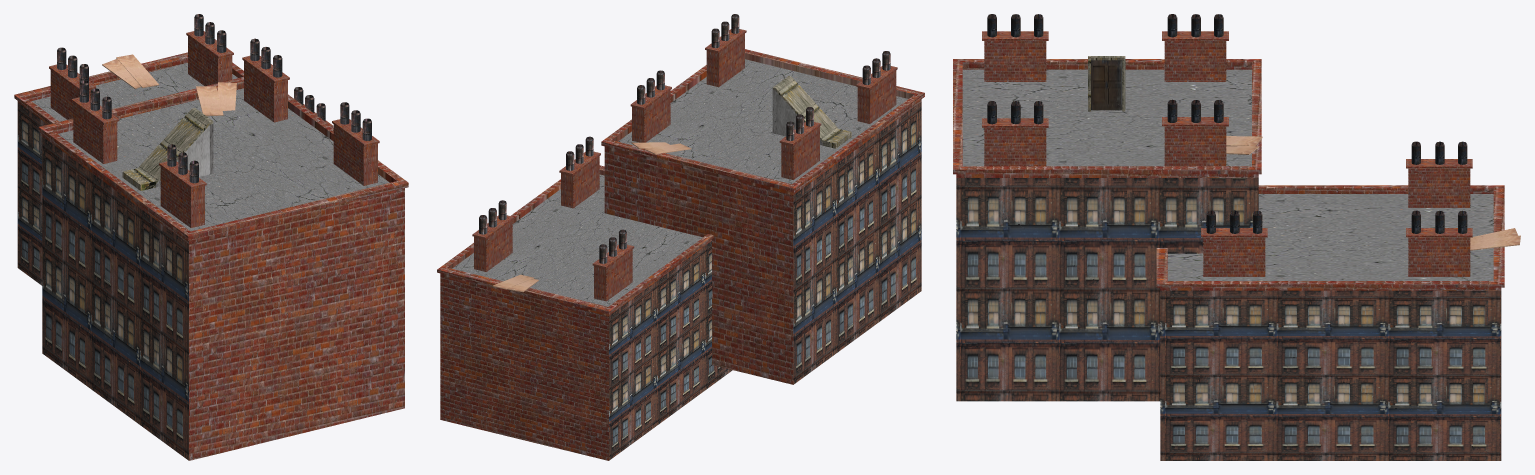
The model's file is Box3WithTextures01.obj.
3 views of the same model, side by side, from view 1: azimuth 30°, elevation 25°; view 2: azimuth 150°, elevation 25°; view 3: azimuth 270°, elevation 25° (orthographic). The views are drawn at different scales.
Parts seen in each view (by area): view 1: Main.003_BrickWallMat.007, Main.003_BrickWallWindowsMat.001, Main.003_HardFloorMat.001, Main.001_BrickWallWindowsMat.002, Main.001_HardFloorMat.002, RoofExit.001_RoofCoverMat.001, Pipe.008_BrickWallMat.007, Pipe.009_BrickWallMat.006, Pipe.010_BrickWallMat.005, Pipe.011_BrickWallMat.004, Pipe.001_BrickWallMat.002, Main.001_BrickWallMat.001 (+6 smaller); view 2: Main.003_BrickWallMat.007, Main.001_BrickWallMat.001, Main.003_BrickWallWindowsMat.001, Main.001_BrickWallWindowsMat.002, Main.003_HardFloorMat.001, Main.001_HardFloorMat.002, Pipe.008_BrickWallMat.007, RoofExit.001_RoofCoverMat.001, Pipe.009_BrickWallMat.006, Pipe.010_BrickWallMat.005, Pipe.011_BrickWallMat.004, Pipe.002_BrickWallMat.003 (+3 smaller); view 3: Main.001_BrickWallWindowsMat.002, Main.003_BrickWallWindowsMat.001, Main.003_HardFloorMat.001, Main.001_HardFloorMat.002, Main.003_BrickWallMat.007, Main.001_BrickWallMat.001, Pipe.010_BrickWallMat.005, Pipe.008_BrickWallMat.007, Pipe.011_BrickWallMat.004, Pipe.003_BrickWallMat.008, Pipe.001_BrickWallMat.002, Pipe.002_BrickWallMat.003 (+2 smaller).
Boxes of the visible parts, <box> form: Main.003_BrickWallMat.007: <box>38,77,408,460</box>; Main.003_BrickWallWindowsMat.001: <box>42,137,188,460</box>; Main.003_HardFloorMat.001: <box>58,88,389,231</box>; Main.001_BrickWallWindowsMat.002: <box>17,103,47,285</box>; Main.001_HardFloorMat.002: <box>31,63,237,121</box>; RoofExit.001_RoofCoverMat.001: <box>122,108,213,190</box>; Pipe.008_BrickWallMat.007: <box>159,161,206,227</box>; Pipe.009_BrickWallMat.006: <box>332,119,379,185</box>; Pipe.010_BrickWallMat.005: <box>71,97,119,163</box>; Pipe.011_BrickWallMat.004: <box>242,55,289,122</box>; Pipe.001_BrickWallMat.002: <box>186,31,233,86</box>; Main.001_BrickWallMat.001: <box>14,52,243,124</box>; Main.003_BrickWallMat.007: <box>601,49,924,384</box>; Main.001_BrickWallMat.001: <box>437,165,713,460</box>; Main.003_BrickWallWindowsMat.001: <box>793,102,921,384</box>; Main.001_BrickWallWindowsMat.002: <box>609,241,732,460</box>; Main.003_HardFloorMat.001: <box>618,59,907,183</box>; Main.001_HardFloorMat.002: <box>452,174,702,306</box>; Pipe.008_BrickWallMat.007: <box>856,66,897,123</box>; RoofExit.001_RoofCoverMat.001: <box>772,76,851,148</box>; Pipe.009_BrickWallMat.006: <box>705,29,746,87</box>; Pipe.010_BrickWallMat.005: <box>779,121,821,179</box>; Pipe.011_BrickWallMat.004: <box>630,85,671,142</box>; Pipe.002_BrickWallMat.003: <box>559,151,600,208</box>; Main.001_BrickWallWindowsMat.002: <box>1160,290,1501,460</box>; Main.003_BrickWallWindowsMat.001: <box>956,178,1258,401</box>; Main.003_HardFloorMat.001: <box>962,69,1251,166</box>; Main.001_HardFloorMat.002: <box>1167,194,1493,280</box>; Main.003_BrickWallMat.007: <box>953,59,1261,177</box>; Main.001_BrickWallMat.001: <box>1156,185,1504,290</box>; Pipe.010_BrickWallMat.005: <box>1162,31,1228,81</box>; Pipe.008_BrickWallMat.007: <box>982,31,1048,81</box>; Pipe.011_BrickWallMat.004: <box>1162,117,1228,166</box>; Pipe.003_BrickWallMat.008: <box>1406,159,1472,207</box>; Pipe.001_BrickWallMat.002: <box>1406,228,1472,276</box>; Pipe.002_BrickWallMat.003: <box>1201,228,1267,276</box>.
Bounding box in the file's own units: 8.61 × 8.61 × 14.15.
